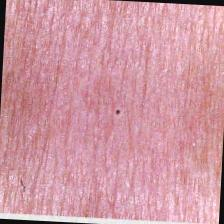Normal: (0, 3, 224, 219)
